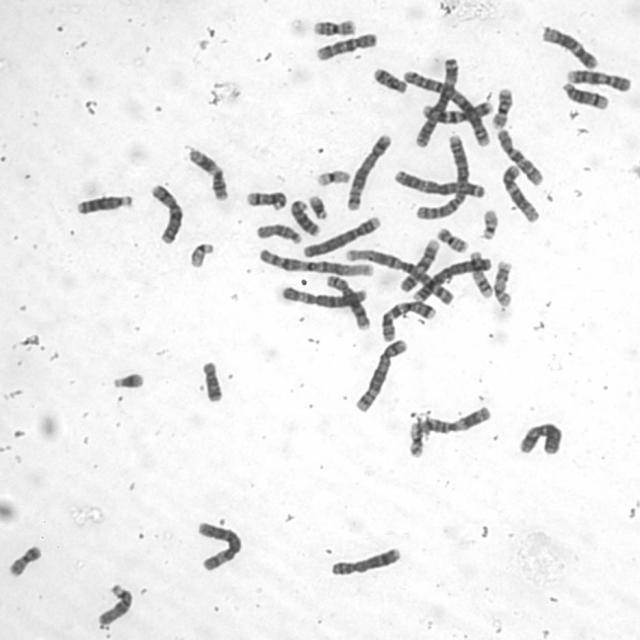A1: (343, 248, 457, 307), (256, 245, 376, 278)
A2: (399, 67, 492, 147), (412, 132, 470, 222)
A3: (411, 56, 460, 148), (390, 166, 488, 200)
B4: (408, 253, 493, 304), (300, 212, 382, 260)
B5: (352, 336, 408, 414), (344, 130, 393, 212)
C10: (493, 126, 545, 187), (312, 30, 379, 63)
C11: (183, 144, 230, 202), (415, 402, 493, 436)
C12: (538, 21, 600, 70), (500, 162, 540, 223)
C6: (194, 518, 244, 573), (276, 281, 368, 309)
C7: (377, 298, 438, 343), (418, 98, 494, 125)
C8: (322, 272, 370, 331), (327, 544, 403, 577)
C9: (398, 236, 442, 292), (564, 66, 632, 93)
D13: (73, 192, 135, 217), (288, 196, 322, 237)
D14: (559, 81, 610, 111), (243, 187, 288, 212)
D15: (96, 581, 135, 626), (254, 221, 304, 245)
E16: (488, 84, 514, 130), (310, 17, 357, 37)
E17: (467, 251, 495, 300), (491, 258, 515, 309)
E18: (198, 358, 225, 404), (371, 65, 409, 95)
F19: (313, 166, 352, 188), (406, 420, 426, 459)
F20: (5, 542, 44, 578), (433, 225, 470, 254)
G21: (110, 368, 147, 390), (306, 192, 330, 221)
G22: (186, 239, 217, 269), (478, 206, 501, 241)
X: (147, 181, 186, 244), (515, 420, 563, 457)
